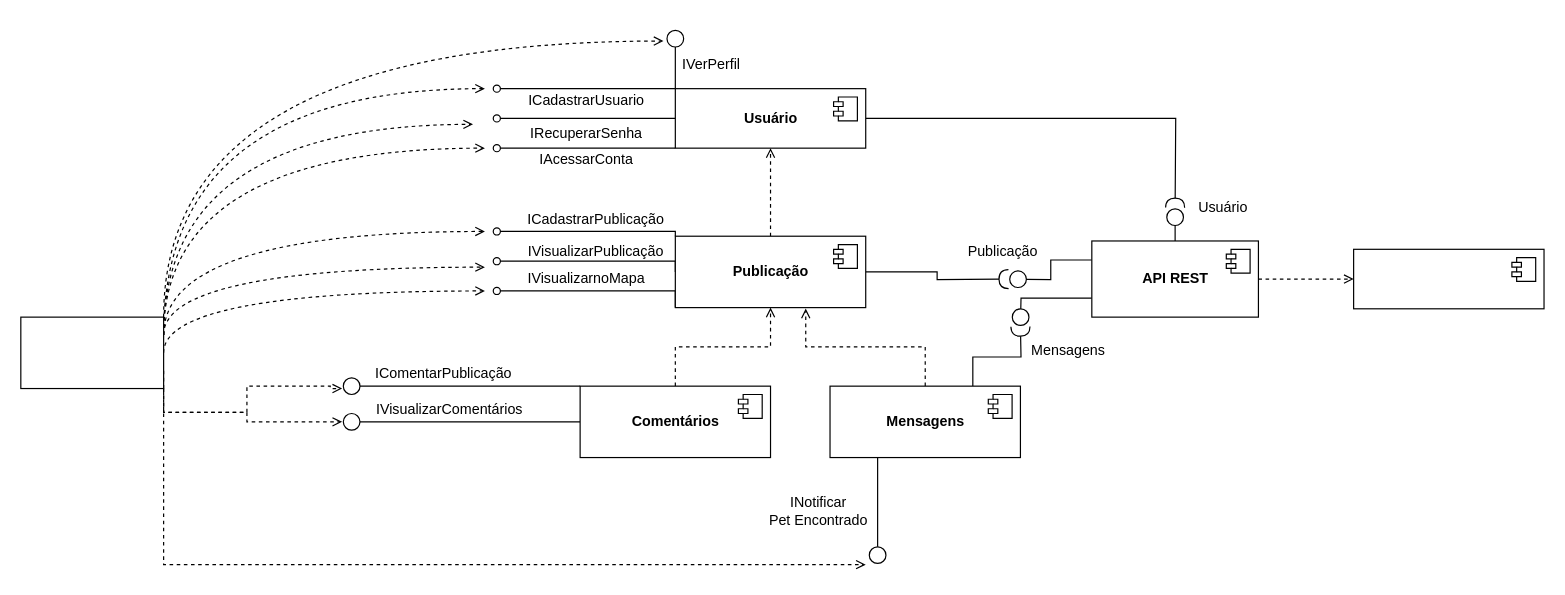
Image size: 1565x595. Some labels were removed from this diagram. Here are the shapes that lost their labels. From the top down, the centre of each, then its label:
At (x=1448, y=278): "Banco de Dados".
At (x=92, y=352): "< < HTTP>> WEB SITE".
